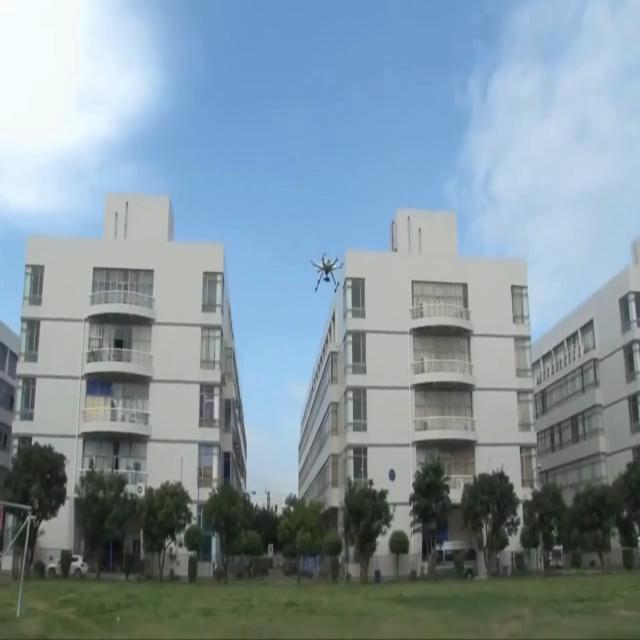drone: (311, 252, 344, 293)
